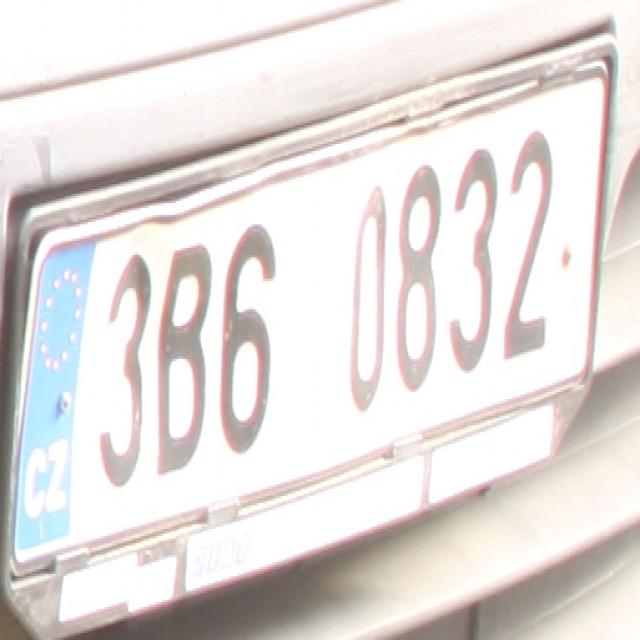0: (346, 177, 390, 420)
2: (505, 118, 553, 357)
3: (99, 255, 151, 489), (449, 144, 499, 378)
6: (216, 215, 276, 451)
8: (396, 156, 442, 390)
B: (158, 241, 208, 479)
